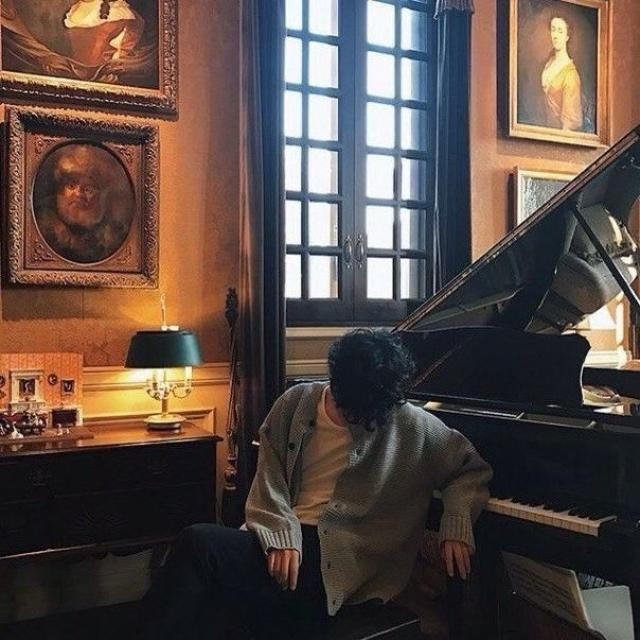9_cabeza_baja: (324, 327, 414, 433)
